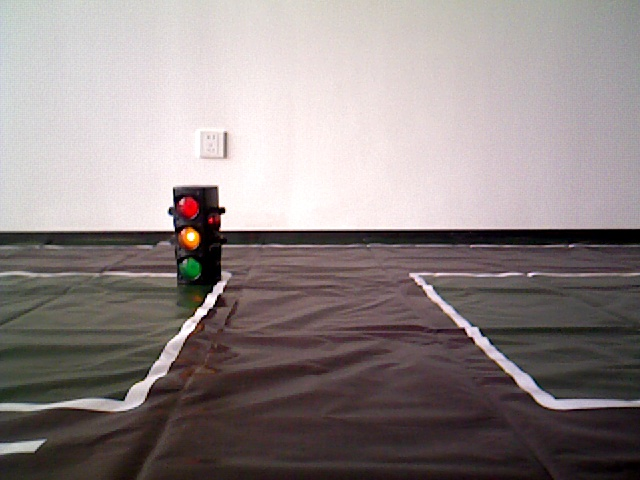yellow: (171, 188, 222, 286)
